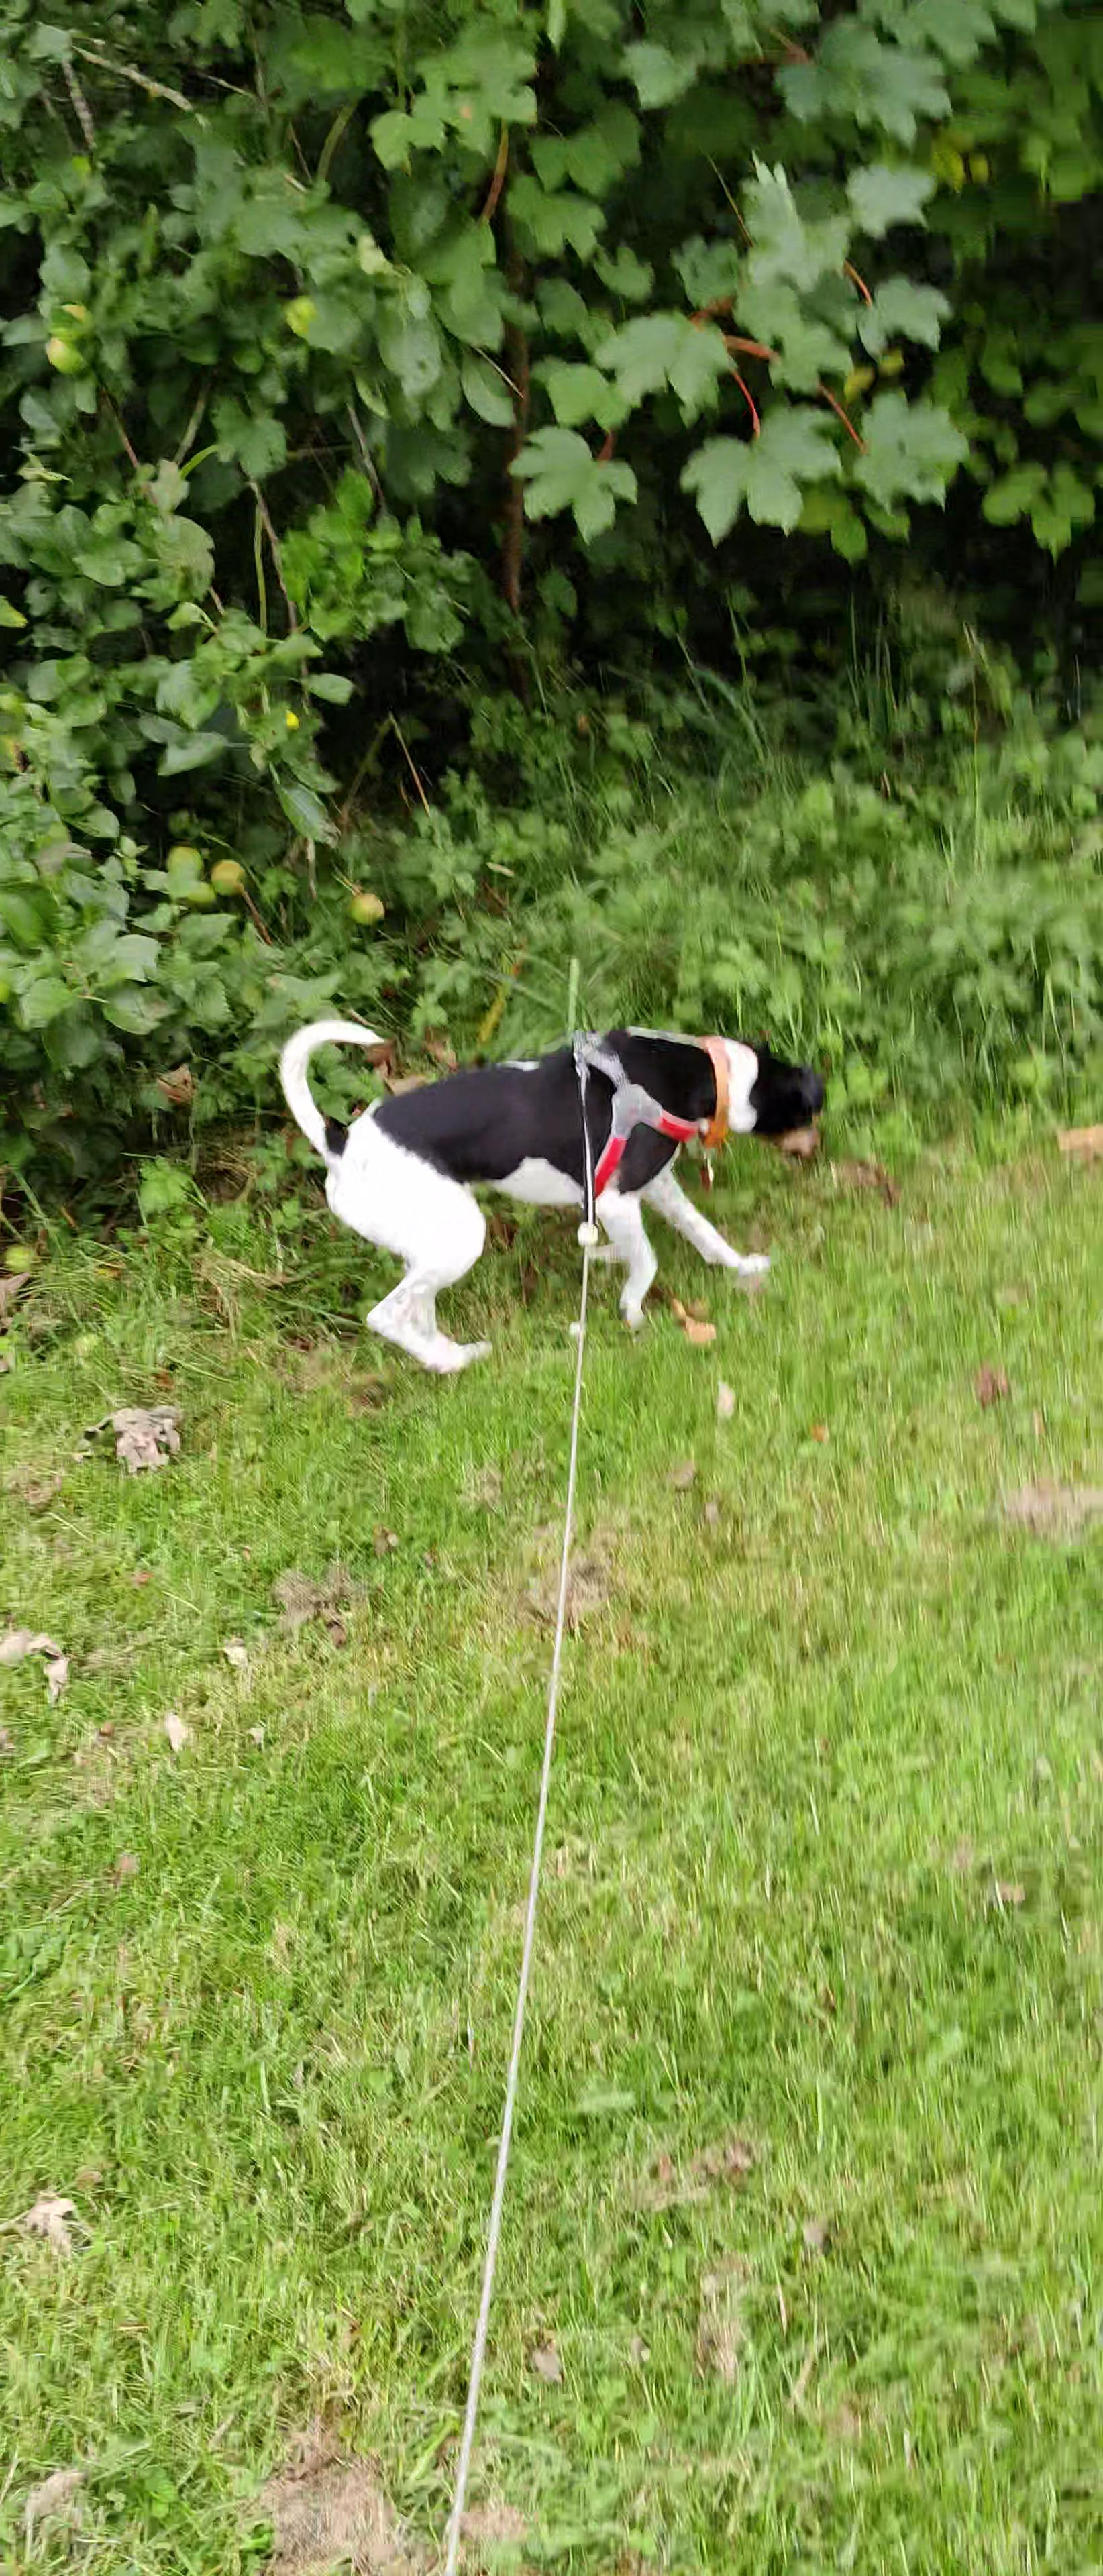Dog: (253, 999, 840, 1383)
